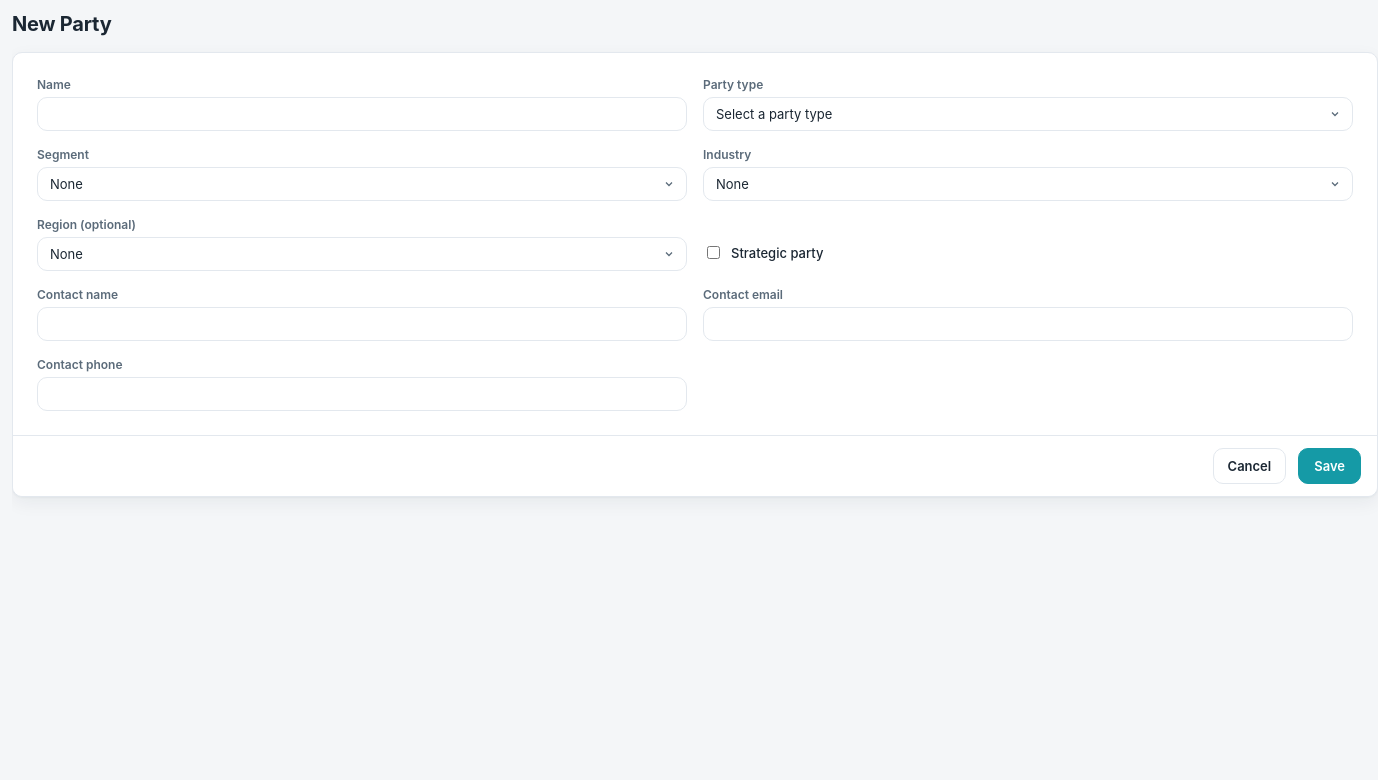
Test: PartyFormPage › submit_WhenNameLeftBlank_ShouldShowInlineRequiredError
Check: the dropdown labelled "Party type" is shown, box [703,97,1353,131]
Step 1. Click the button "Save" → click(1330, 466), box [1298,448,1361,484]
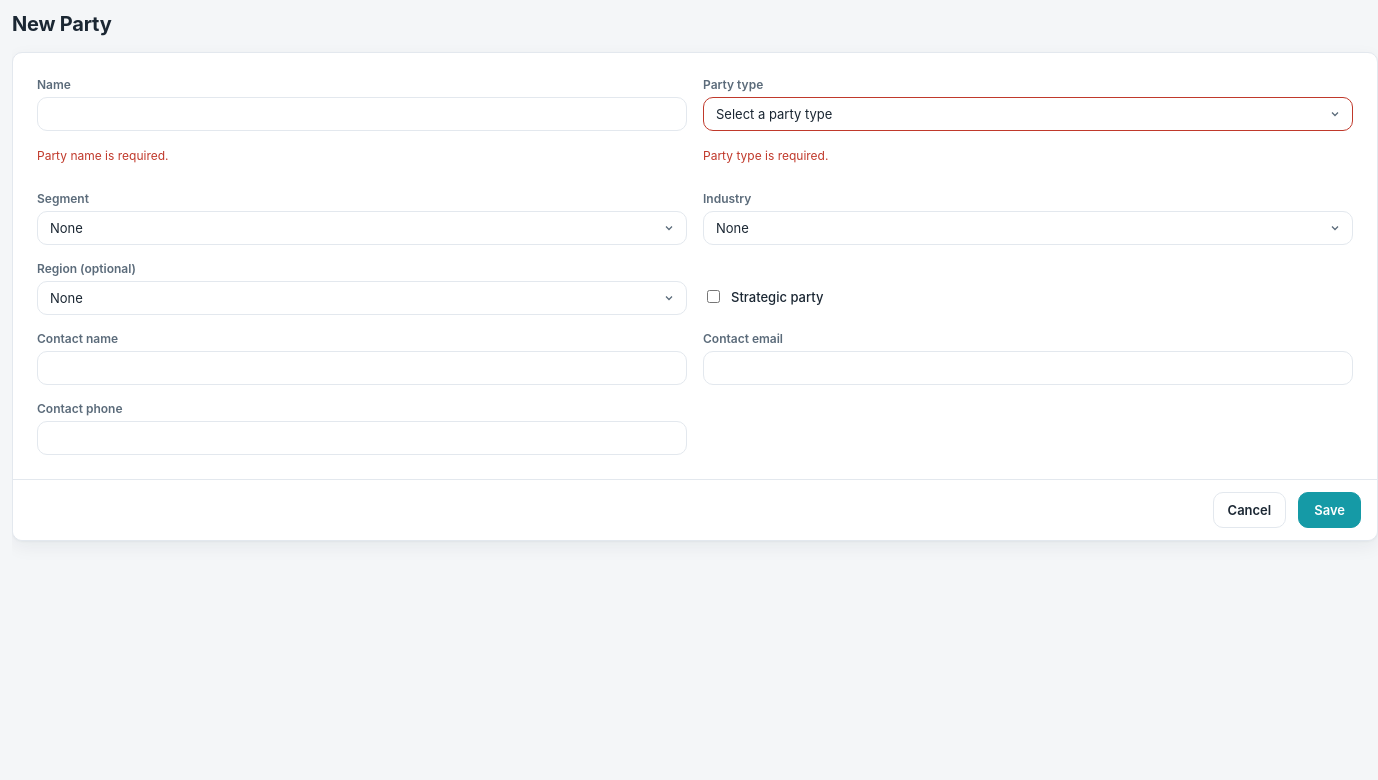
Check: the text "Party name is required." is shown, box [37,148,168,163]
